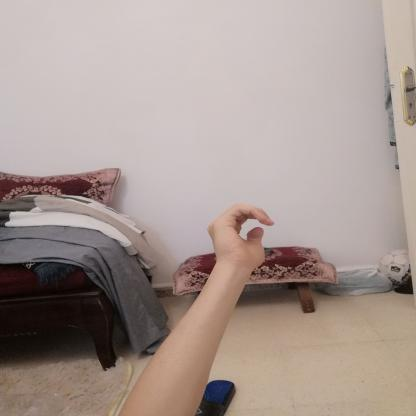JEEM: (195, 195, 283, 276)
